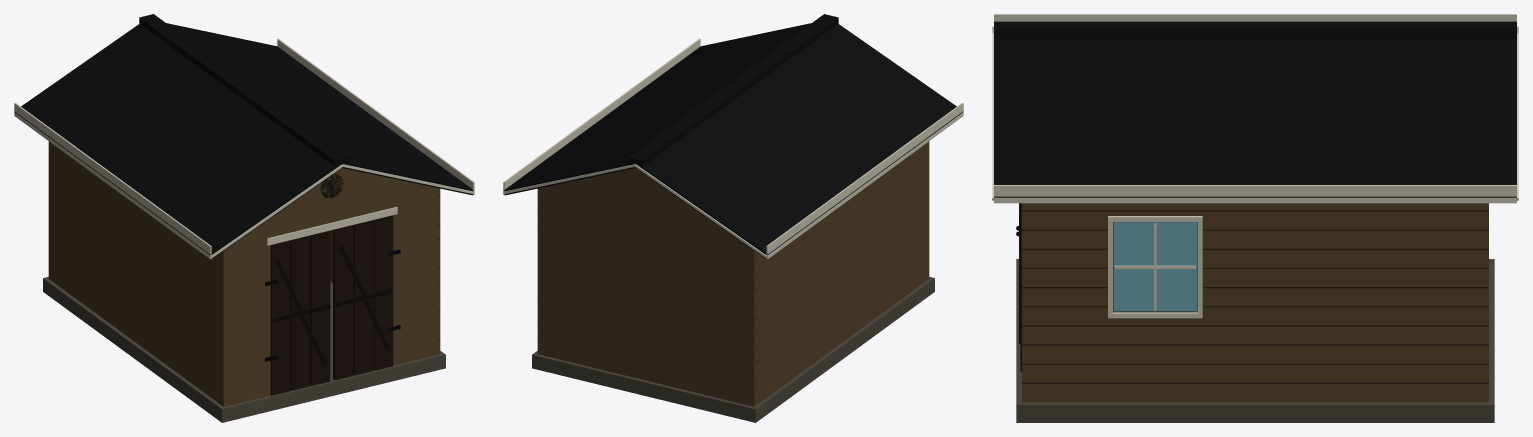
Rendered from Workshop.obj.
The picture shows the model from 3 angles, left to right: view 1: azimuth 30°, elevation 25°; view 2: azimuth 150°, elevation 25°; view 3: azimuth 270°, elevation 25°; orthographic projection. The views are drawn at different scales.
Parts seen in each view (by area): view 1: Workshop; view 2: Workshop; view 3: Workshop.
Boxes of the visible parts, bbox=[...] form: Workshop: bbox=[14, 14, 474, 422]; Workshop: bbox=[503, 14, 963, 422]; Workshop: bbox=[992, 14, 1518, 422].
Bounding box in the file's own units: 3.67 × 3.21 × 4.73.
